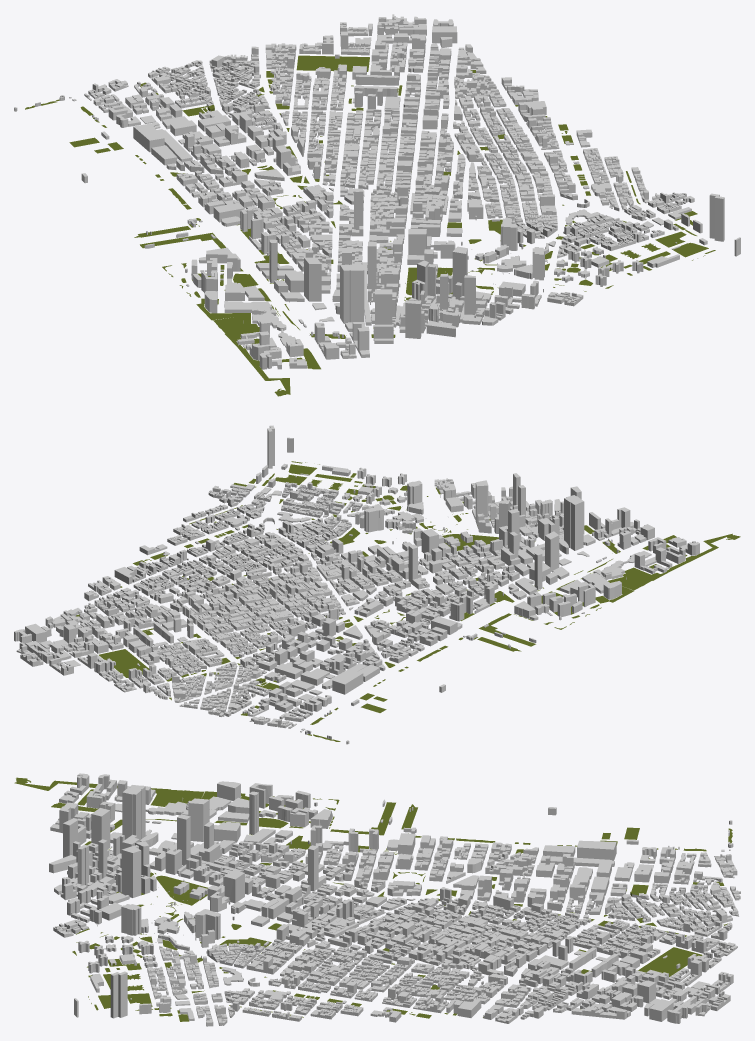
The model's file is area4_lod0.glb.
3 views of the same model, one above another, from view 1: azimuth 30°, elevation 25°; view 2: azimuth 150°, elevation 25°; view 3: azimuth 270°, elevation 25° (orthographic). The views are drawn at different scales.
Visible parts, largest first — view 1: Area05_Lod0, Areas:leisure.008; view 2: Area05_Lod0, Areas:leisure.008; view 3: Area05_Lod0, Areas:leisure.008.
Part boxes in pixels (bbox=[...]): Area05_Lod0: bbox=[14, 14, 740, 369]; Areas:leisure.008: bbox=[25, 55, 715, 396]; Area05_Lod0: bbox=[14, 425, 699, 744]; Areas:leisure.008: bbox=[76, 461, 740, 741]; Area05_Lod0: bbox=[49, 773, 740, 1026]; Areas:leisure.008: bbox=[14, 777, 732, 1021].
Size of what is drawn, in the model's own units: 3221 by 320 by 3976.
